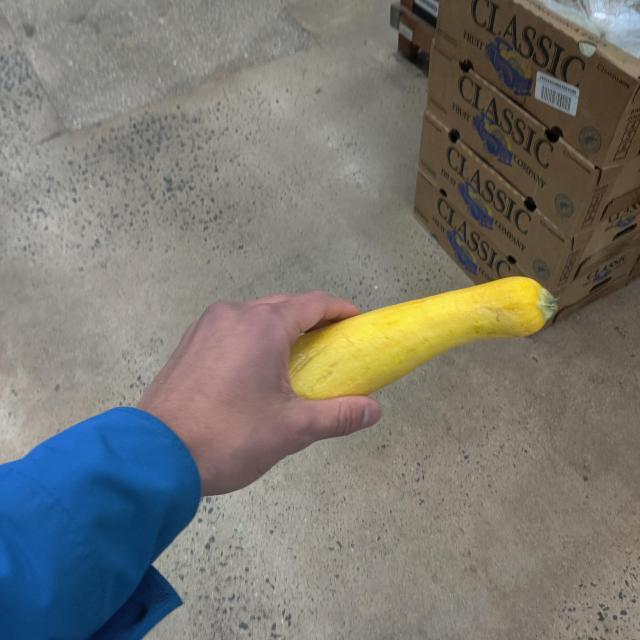Zucchini: (282, 275, 560, 410)
